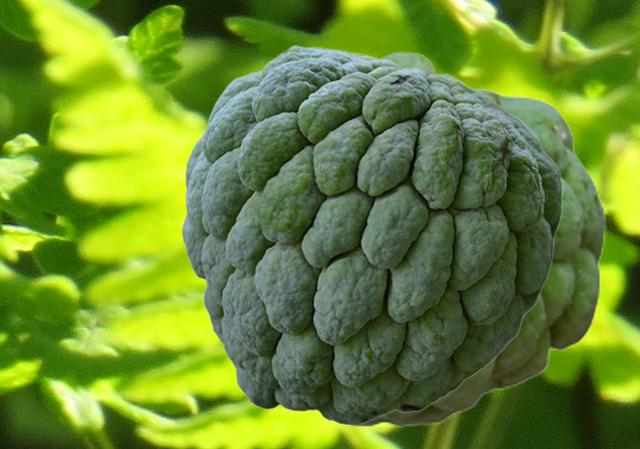atis: (181, 45, 562, 424), (317, 51, 605, 426)
